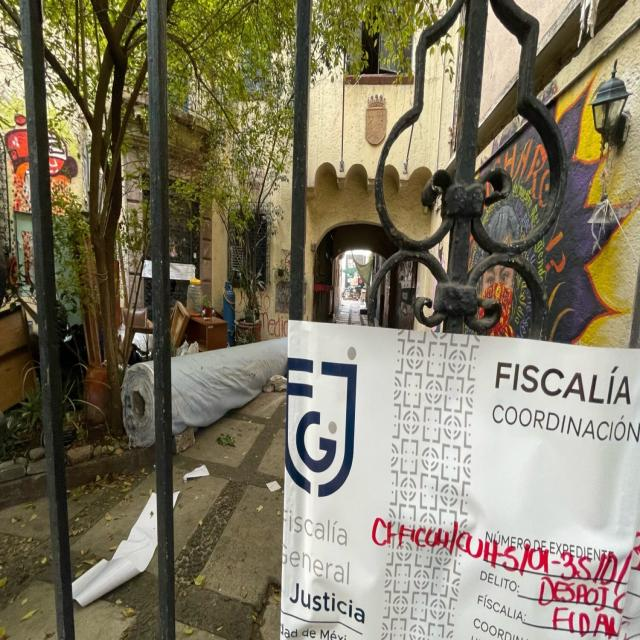stamps: (279, 332, 640, 639)
